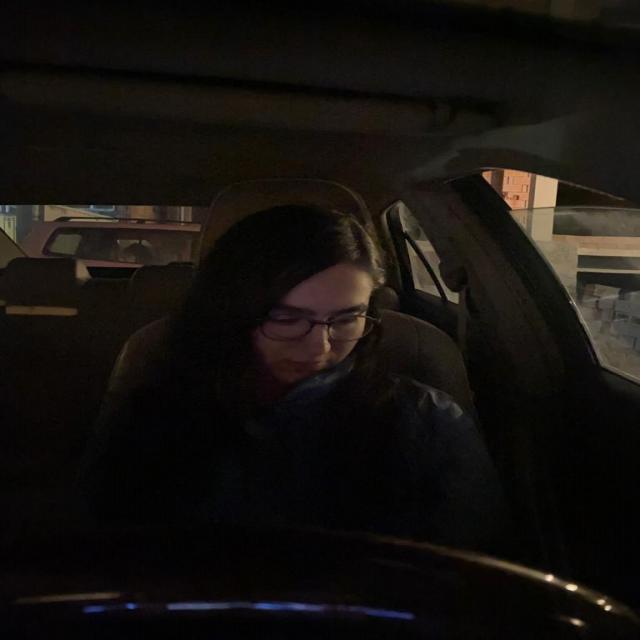person: (217, 200, 397, 400)
